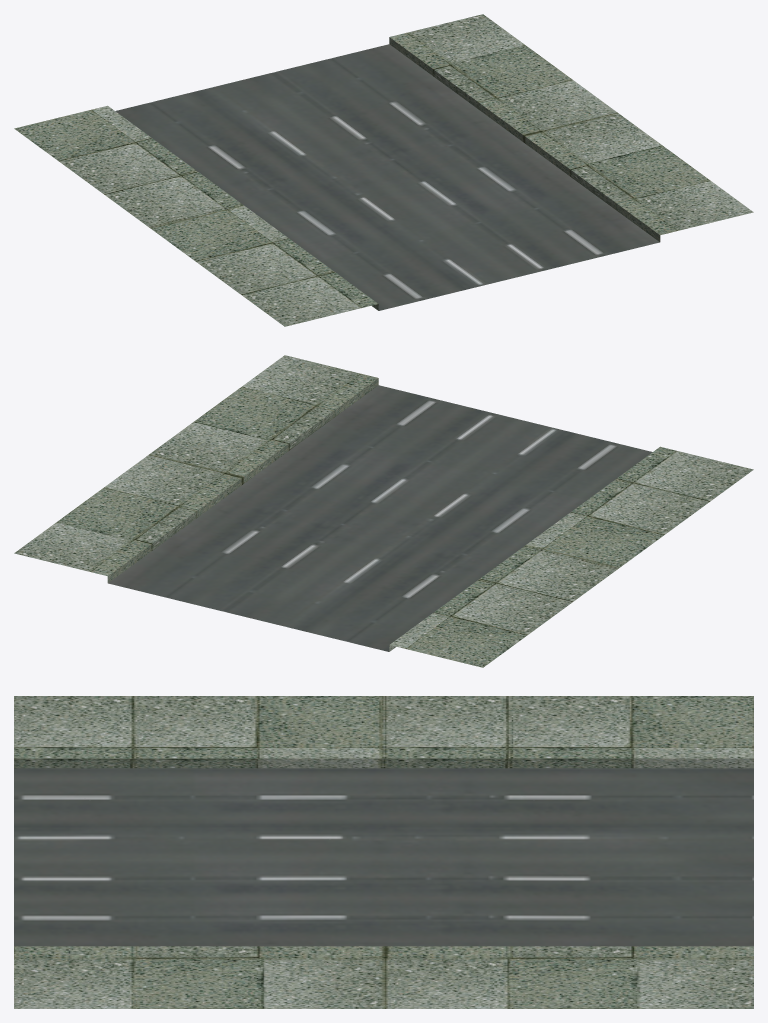
The model's file is roadblock B1.FBX.
3 views of the same model, one above another, from view 1: azimuth 30°, elevation 25°; view 2: azimuth 150°, elevation 25°; view 3: azimuth 270°, elevation 25° (orthographic). The views are drawn at different scales.
Visible parts, largest first — view 1: Box001; view 2: Box001; view 3: Box001.
Part boxes in pixels (box(x1,y1,x2,y2)): Box001: box(14, 14, 753, 326); Box001: box(14, 355, 753, 667); Box001: box(14, 696, 753, 1008).
Bounding box in the file's own units: 40 × 0.5824 × 40.
